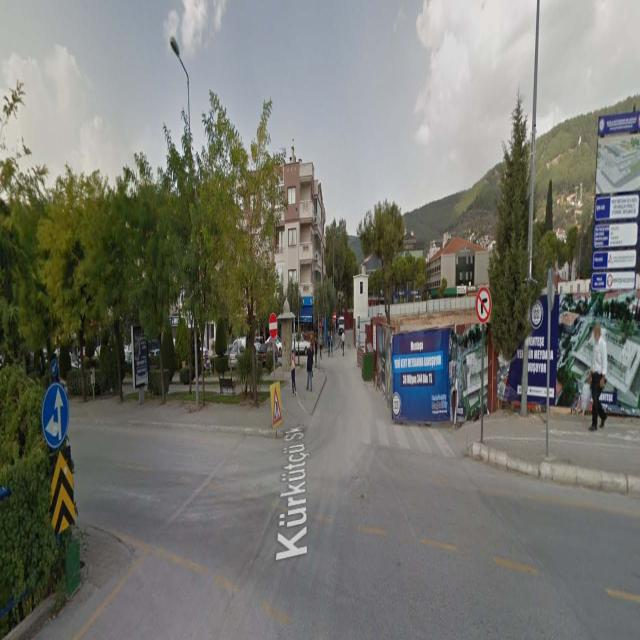girisyok: (269, 313, 278, 340)
ilerisol: (42, 385, 69, 449)
sagadonulmez: (475, 287, 491, 323)
